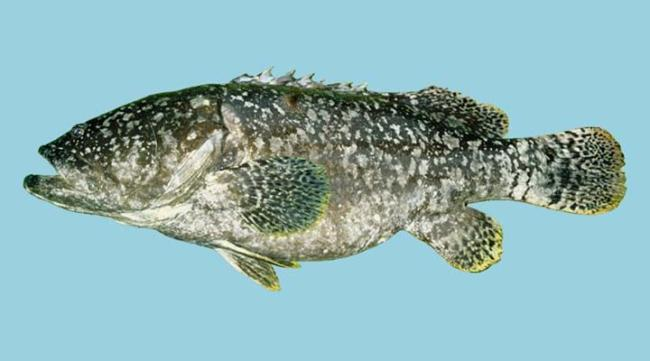fish: (23, 66, 628, 293)
